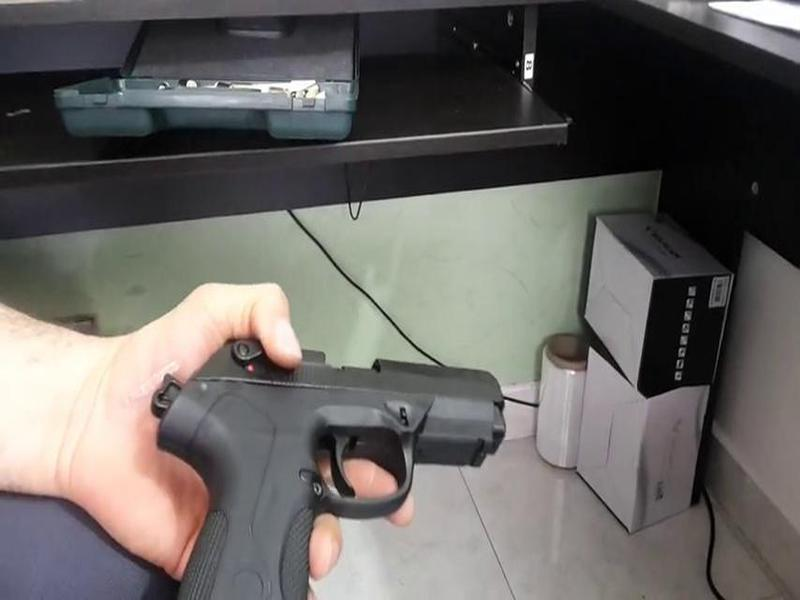Pistola: (117, 314, 559, 565)
